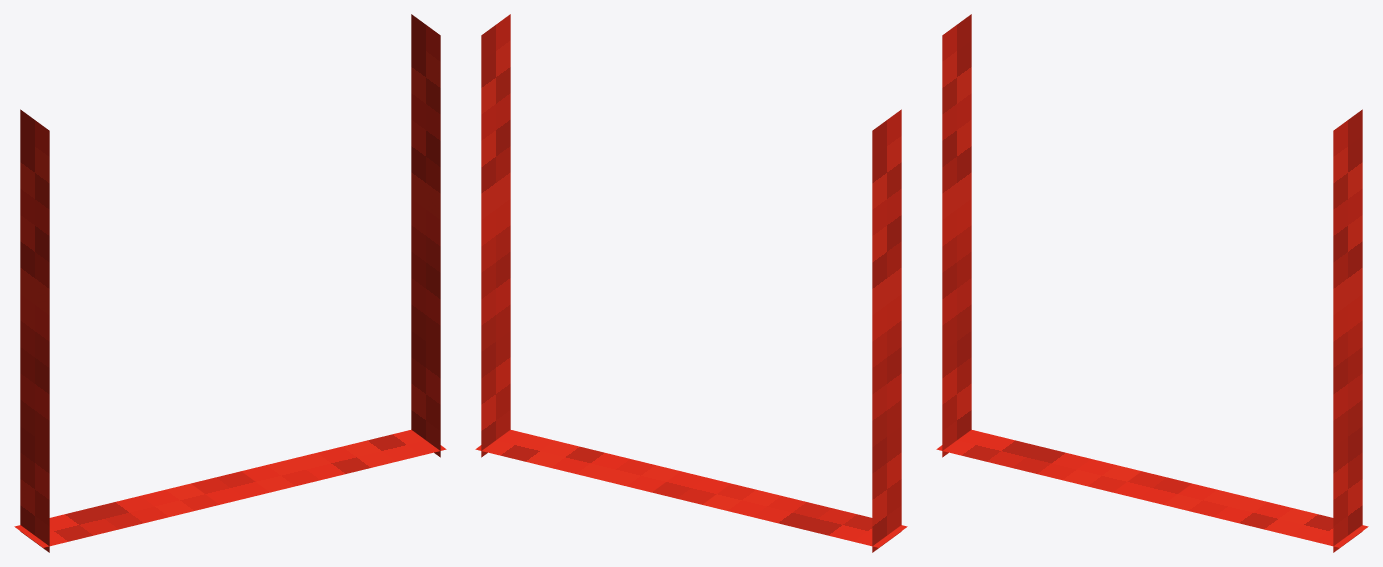
File: dust_on_2200.gltf
3 renders of one model, left to right at view 1: azimuth 30°, elevation 25°; view 2: azimuth 150°, elevation 25°; view 3: azimuth 330°, elevation 25°, orthographic.
Parts seen in each view (by area): view 1: dust_on_2200; view 2: dust_on_2200; view 3: dust_on_2200.
Boxes of the visible parts, left/top/right/bottom form: dust_on_2200: left=14, top=14, right=446, bottom=552; dust_on_2200: left=475, top=14, right=907, bottom=552; dust_on_2200: left=936, top=14, right=1368, bottom=552.
Size of the model in its own units: 1 by 1 by 0.125.
1 material, 1 textured.
